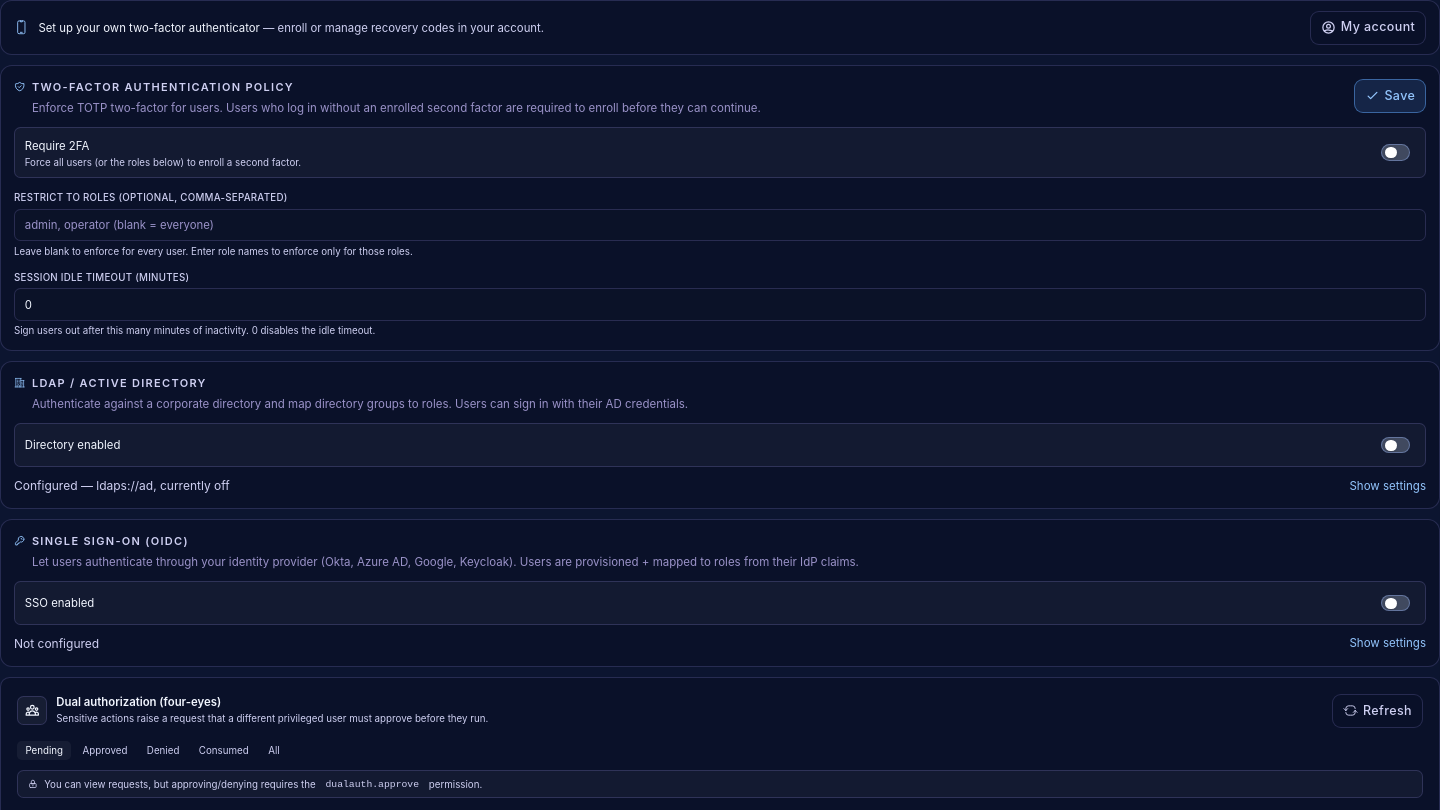
the security cards disclose progressively › lets an admin open the settings of a feature that is off
The image size is (1440, 810).
Click the button "Show settings" in the row of "Configured — ldaps://ad, currently off" at [1388, 486], box [1350, 478, 1426, 495]
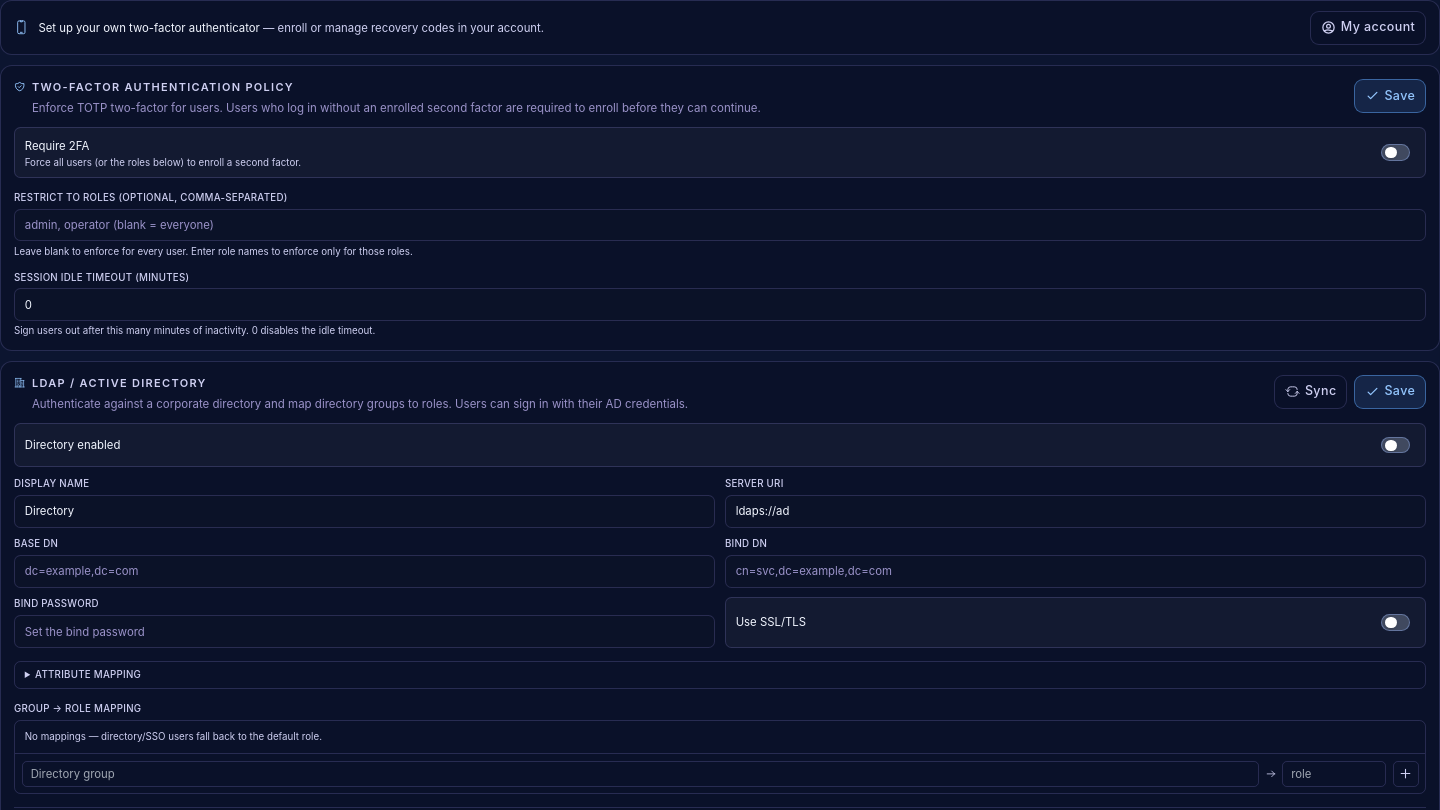
expect the field labelled "Server URI" is shown: met, box [725, 495, 1426, 528]
